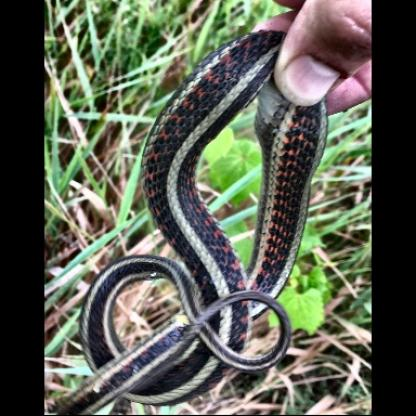Snake: (81, 26, 329, 404)
